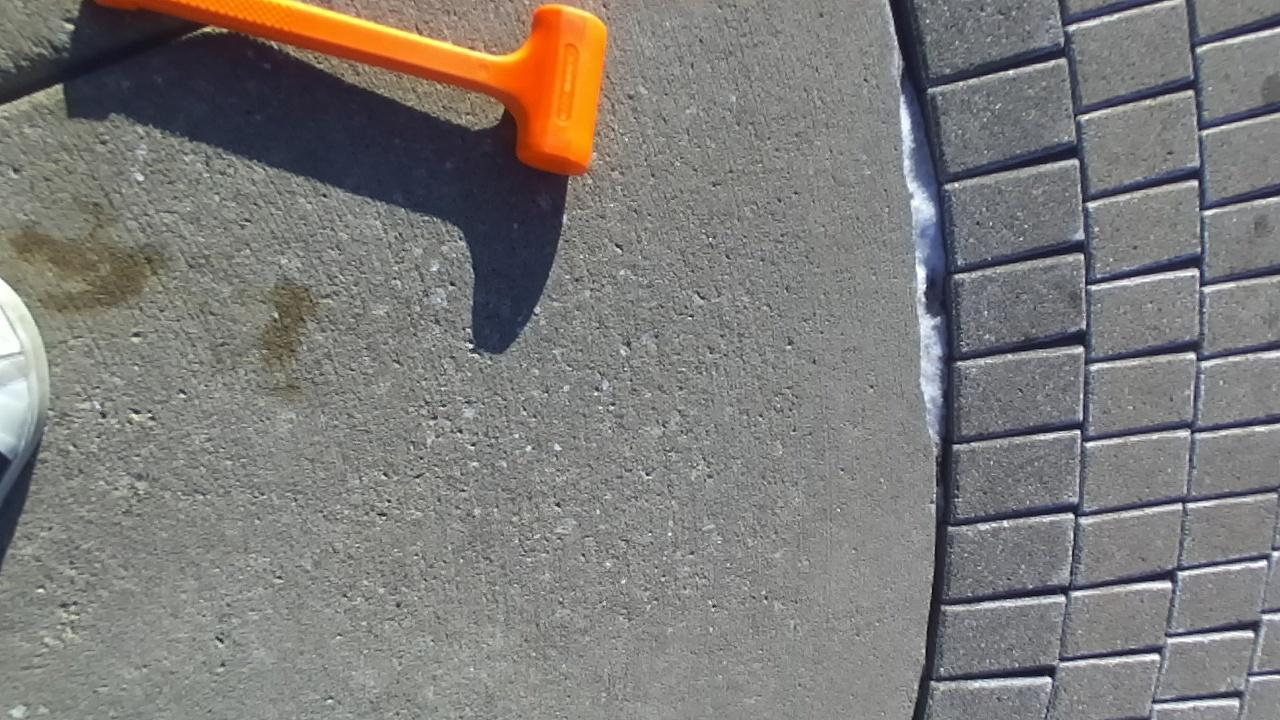mallet: (95, 0, 606, 174)
